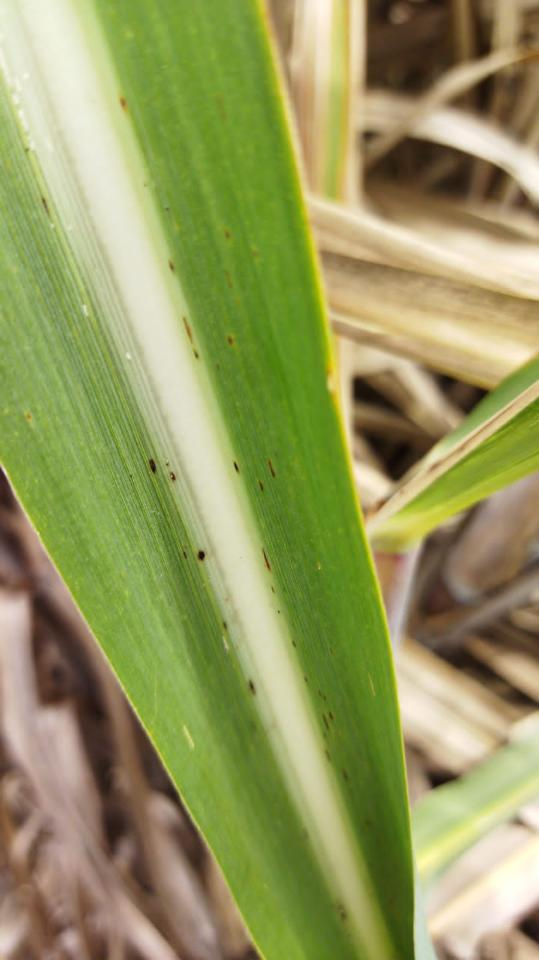Rust: (177, 311, 204, 366), (144, 451, 180, 488), (319, 709, 336, 763), (34, 193, 57, 223), (294, 821, 318, 848), (334, 896, 354, 923), (220, 265, 238, 293), (264, 455, 282, 482), (260, 547, 274, 574), (337, 764, 353, 786), (231, 454, 244, 478), (166, 256, 180, 276), (245, 678, 259, 698), (226, 330, 240, 350), (118, 96, 133, 114), (247, 247, 262, 264), (195, 547, 208, 566), (316, 687, 331, 703), (220, 226, 236, 241), (257, 477, 267, 496), (180, 548, 189, 562), (270, 584, 279, 598), (290, 639, 300, 651), (221, 618, 229, 632), (303, 674, 312, 686), (277, 608, 283, 617)
